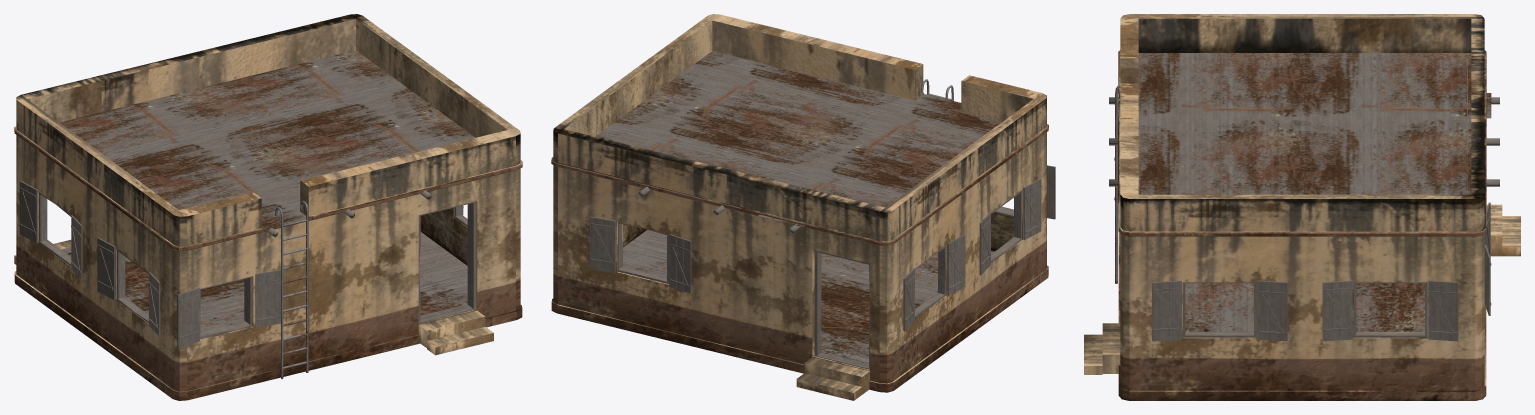
Rendered from Old_House.fbx.
The picture shows the model from 3 angles, left to right: view 1: azimuth 30°, elevation 25°; view 2: azimuth 150°, elevation 25°; view 3: azimuth 270°, elevation 25°; orthographic projection. The views are drawn at different scales.
Visible parts, largest first — view 1: Cube.001; view 2: Cube.001; view 3: Cube.001.
Part boxes in pixels (<box>): Cube.001: <box>14,14,522,400</box>; Cube.001: <box>551,14,1055,400</box>; Cube.001: <box>1084,14,1520,400</box>.
Size of the model in its own units: 731 by 360 by 707.
